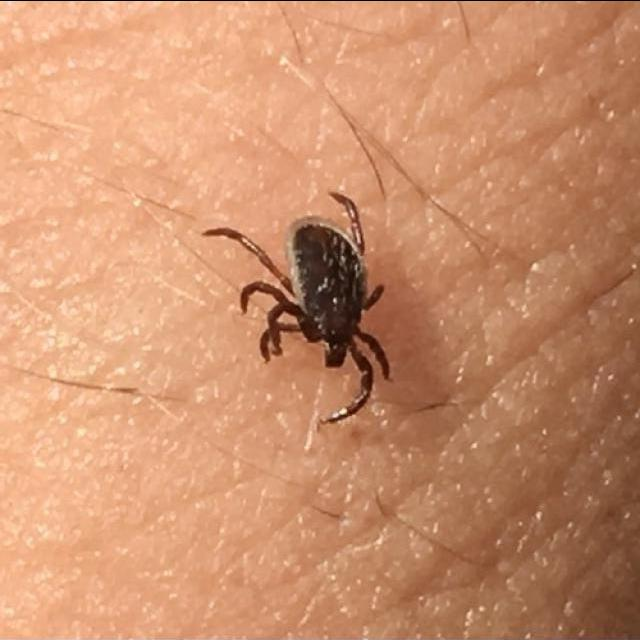Ixodes Ricinus-M: (204, 193, 392, 424)
